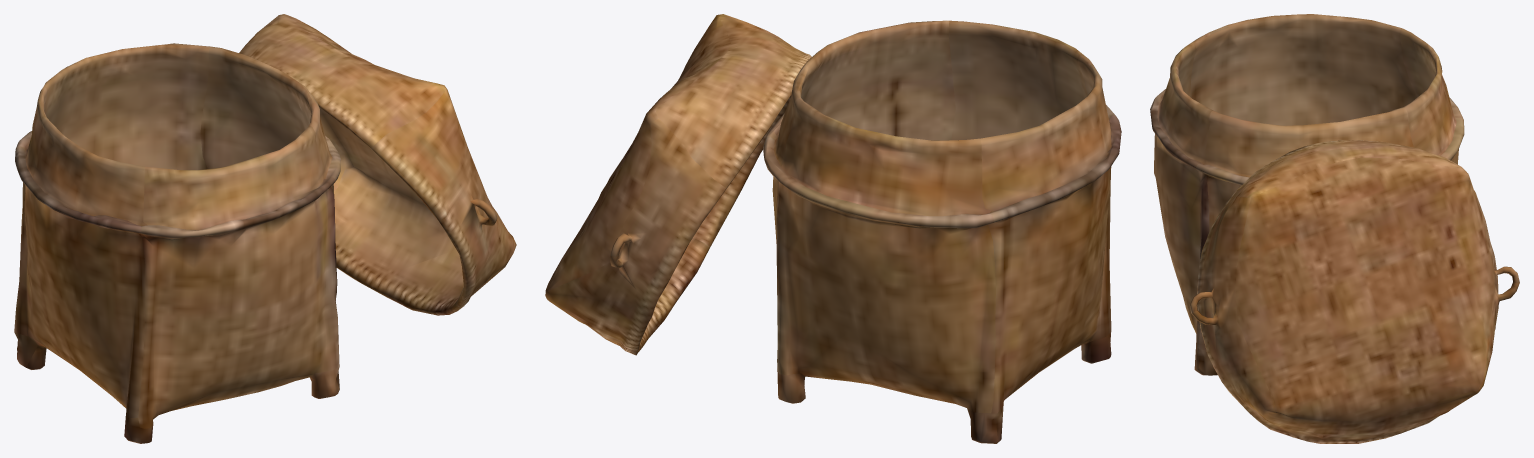
File: basket-wicker.lite.ccaafe26.glb
The picture shows the model from 3 angles, left to right: view 1: azimuth 30°, elevation 25°; view 2: azimuth 150°, elevation 25°; view 3: azimuth 270°, elevation 25°; orthographic projection. The views are drawn at different scales.
Parts seen in each view (by area): view 1: model; view 2: model; view 3: model.
Part boxes in pixels (box(x1,y1,x2,y2)): model: box(14, 14, 516, 443); model: box(545, 14, 1121, 443); model: box(1150, 14, 1519, 443).
Bounding box in the file's own units: 0.3469 × 0.2004 × 0.2541.
Materials: 1 (1 with a texture image).
